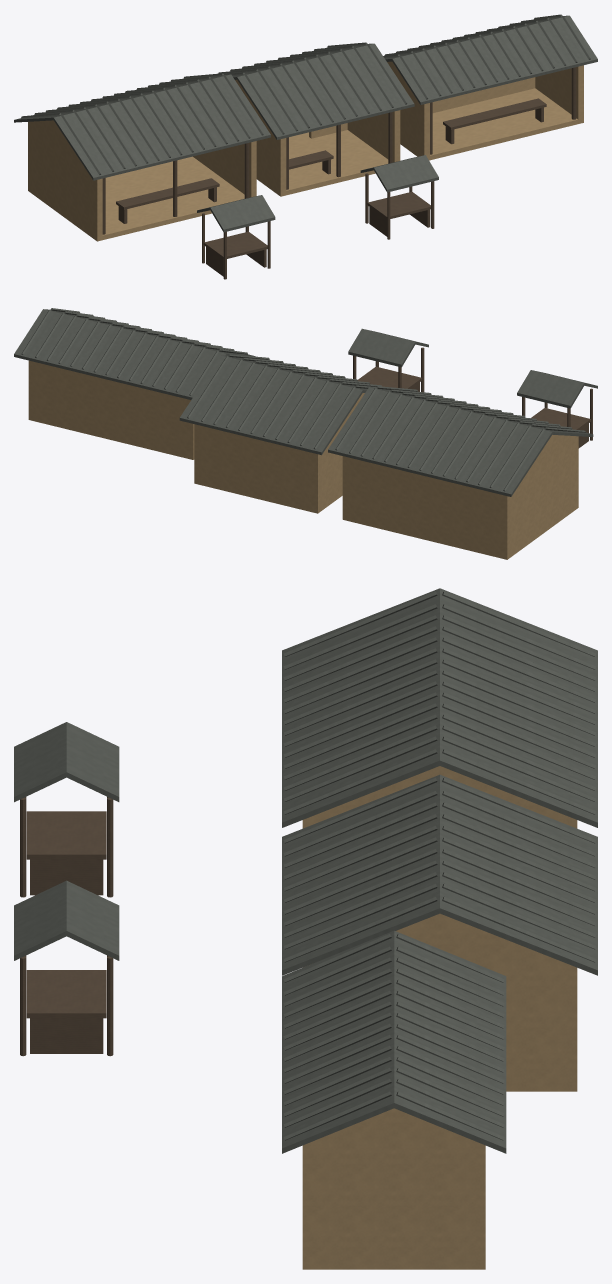
3 views of the same model, one above another, from view 1: azimuth 30°, elevation 25°; view 2: azimuth 150°, elevation 25°; view 3: azimuth 270°, elevation 25° (orthographic). The views are drawn at different scales.
Visible parts, largest first — view 1: assembled__LY_P01_tile__PBR, assembled__LY_P01_earth__PBR, assembled__LY_P01_timber__PBR; view 2: assembled__LY_P01_tile__PBR, assembled__LY_P01_earth__PBR, assembled__LY_P01_timber__PBR; view 3: assembled__LY_P01_tile__PBR, assembled__LY_P01_earth__PBR, assembled__LY_P01_timber__PBR.
Boxes of the visible parts, <box> form: assembled__LY_P01_tile__PBR: <box>14,14,597,232</box>; assembled__LY_P01_earth__PBR: <box>28,61,583,241</box>; assembled__LY_P01_timber__PBR: <box>102,67,576,279</box>; assembled__LY_P01_tile__PBR: <box>14,308,597,496</box>; assembled__LY_P01_earth__PBR: <box>28,360,578,559</box>; assembled__LY_P01_timber__PBR: <box>353,347,592,448</box>; assembled__LY_P01_tile__PBR: <box>14,588,597,1153</box>; assembled__LY_P01_earth__PBR: <box>302,766,577,1269</box>; assembled__LY_P01_timber__PBR: <box>20,797,113,1056</box>.
Size of the model in its own units: 25.3 by 4.93 by 12.75.
Materials: 3 (3 with a texture image).
